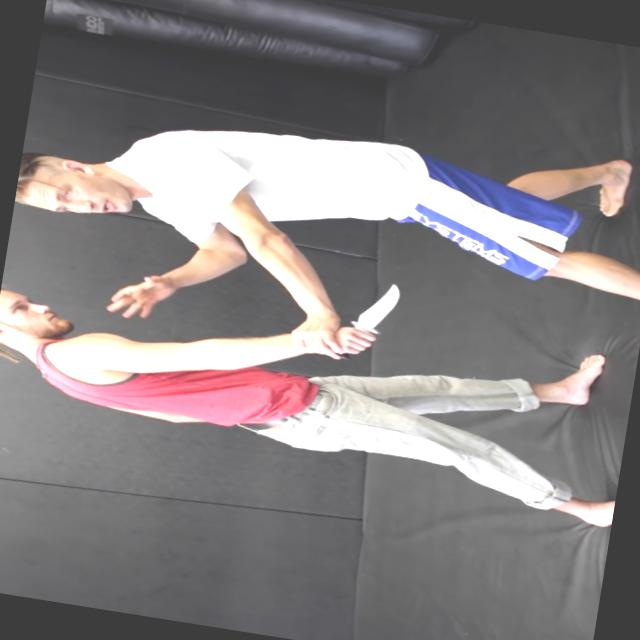knife: (337, 273, 412, 368)
